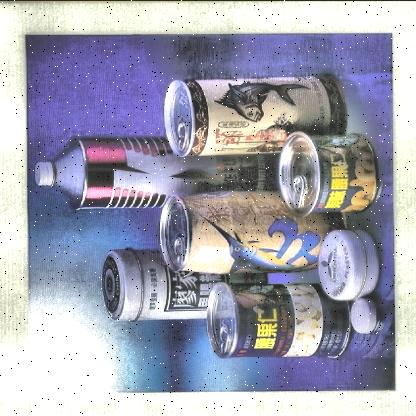Can: (153, 186, 355, 276), (154, 70, 348, 160), (100, 244, 276, 322), (201, 278, 354, 360), (274, 128, 382, 216)
